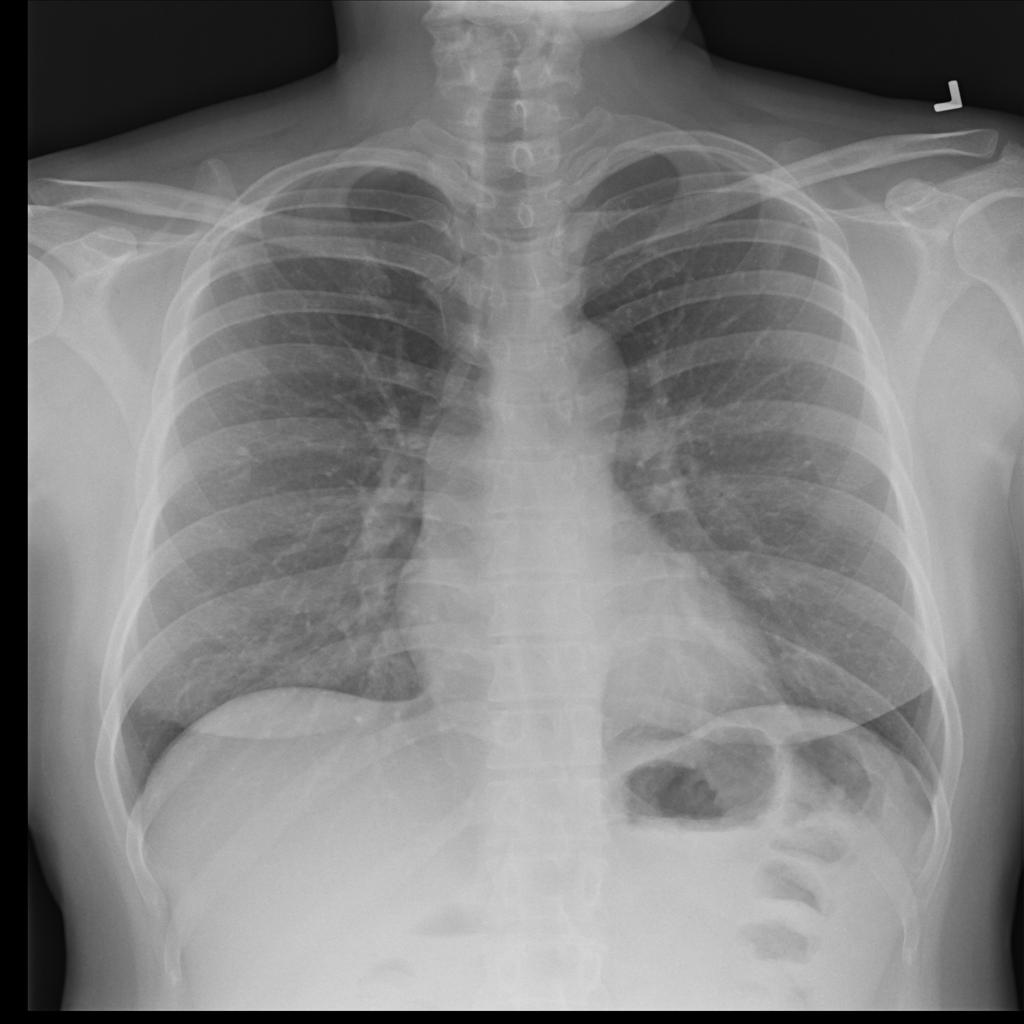nodule: (214, 431, 268, 479)
